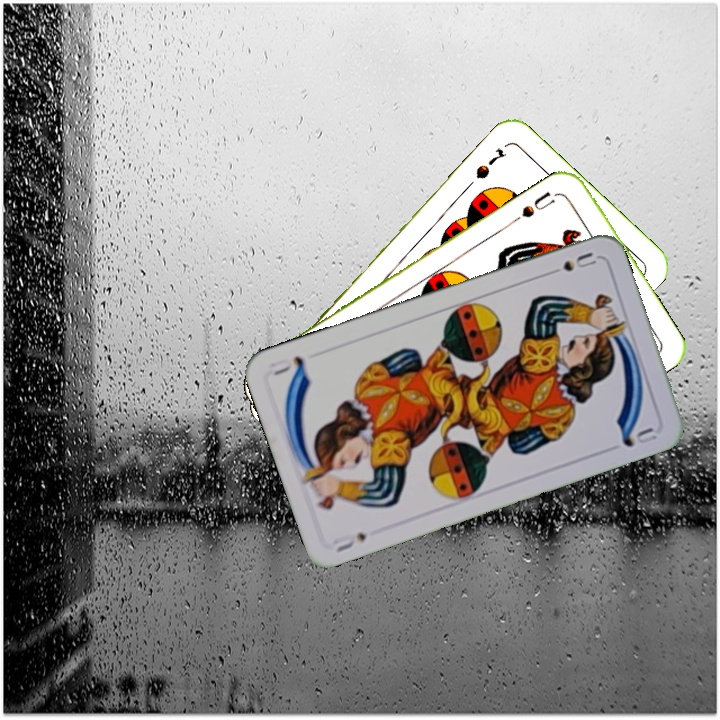S7: (471, 144, 510, 182)
SU: (542, 248, 599, 279), (517, 188, 562, 221), (329, 528, 370, 555)
